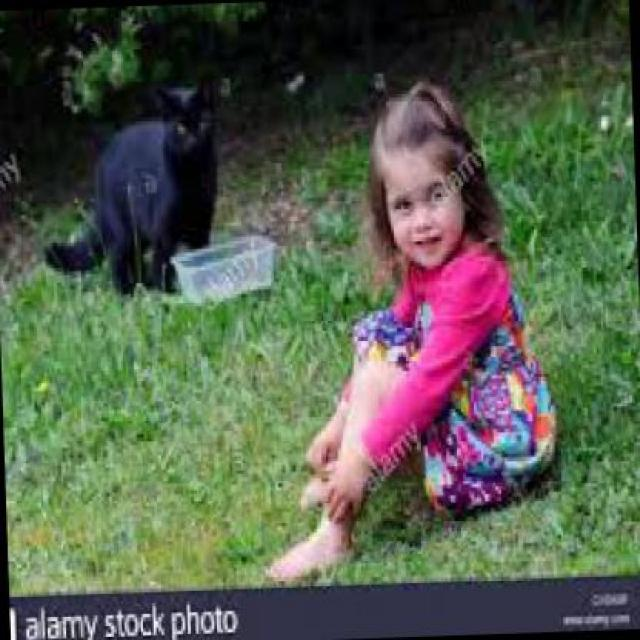animals: (15, 71, 233, 284)
